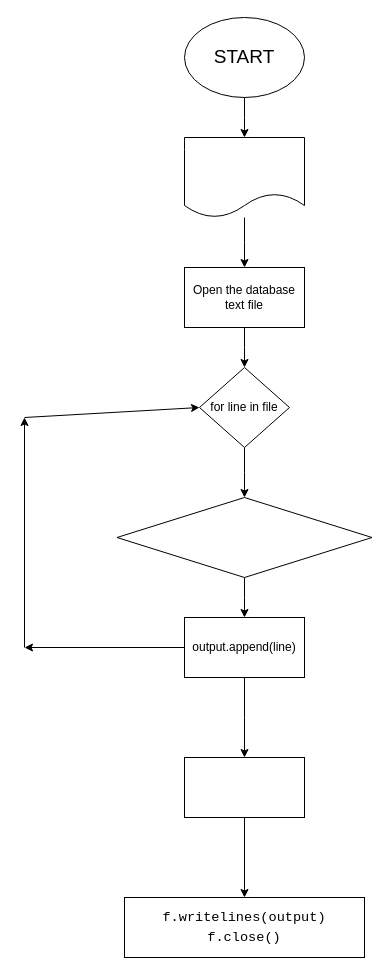
Some shapes in this 390 by 980 pixel diagram are drawn without their labels. Each missing label, with the box of its shape:
Enter the name of the food: (184, 136, 304, 218)
file.close() file = open(file,"w"): (184, 756, 304, 818)
if not line.standwidth(name of food): (116, 496, 372, 578)
